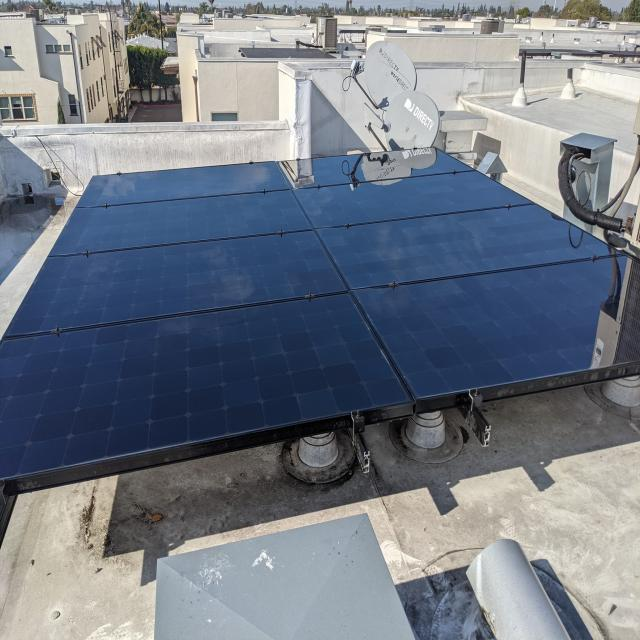clean-solar-panel: (0, 153, 640, 482)
